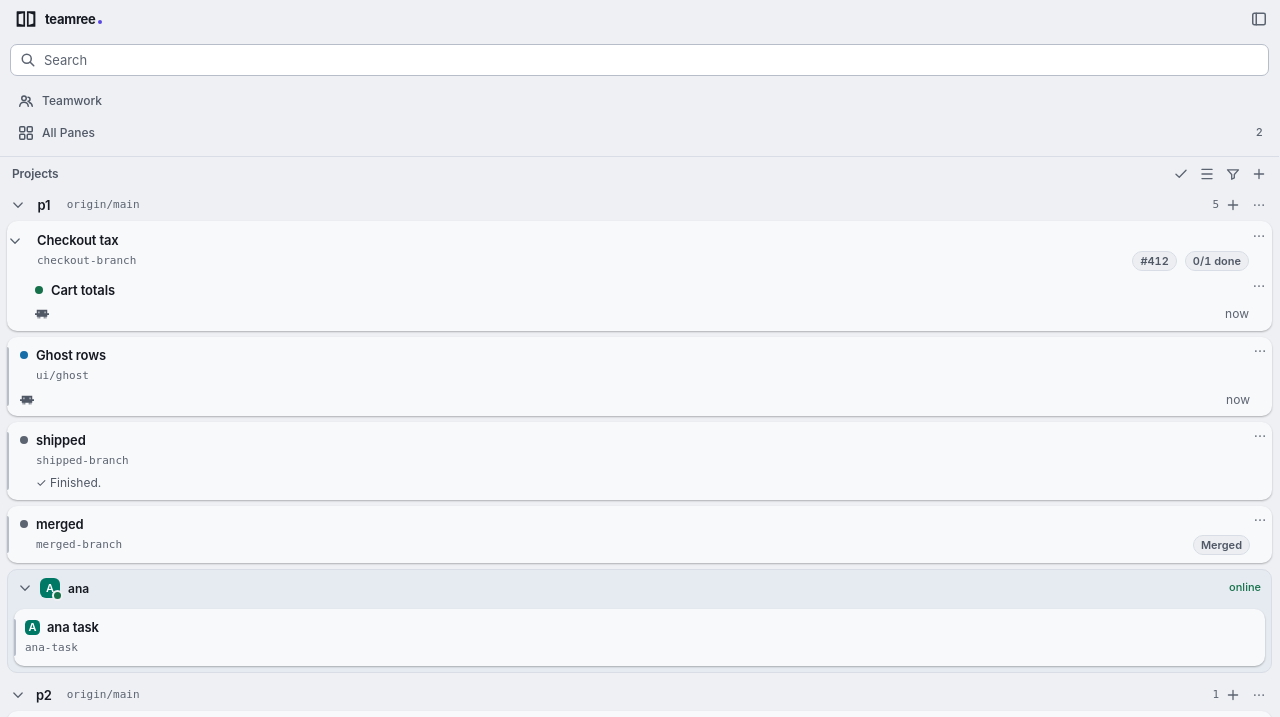
Scenario: the chips › Mine leaves teammates’ rows out
Check: the text "ana task" is shown, box 47,619 -> 99,635
Click the button named "Filter" at (1233, 174), box 1221,162 -> 1245,186
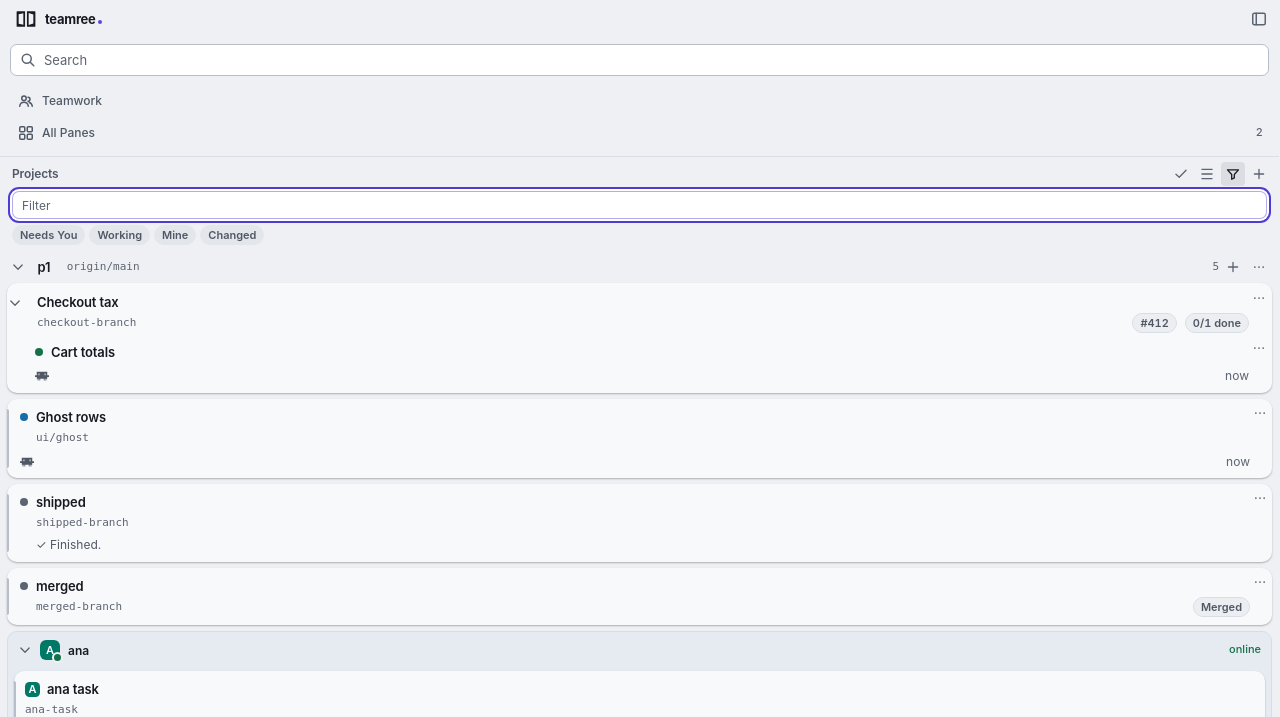
Click the button "Mine" at (175, 235), box 154,225 -> 196,245
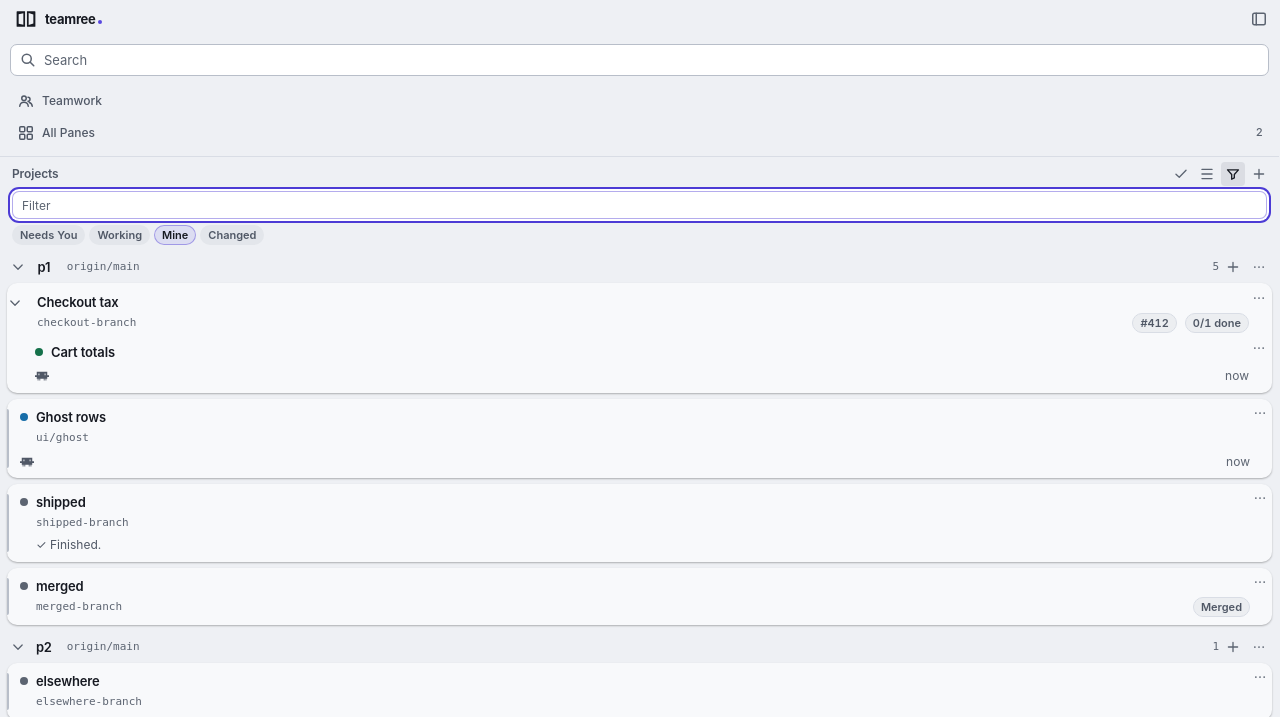
Check: the text "ana task" is gone
